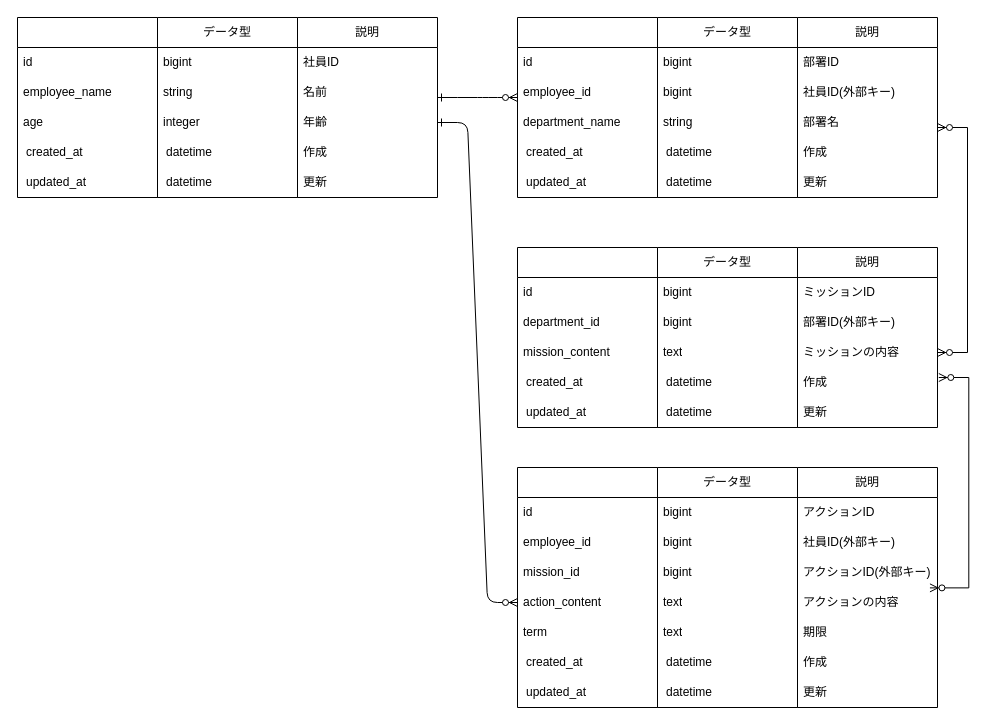
The diagram is 996 pixels wide and 725 high, and some of its shapes have lost their labels. Here are the shapes that lost their labels. From the top down, the box of each, then its label:
(16, 16, 158, 198): Employee（ 社員 ）
(516, 16, 658, 198): Department（ 部署 ）
(516, 246, 658, 428): Mission（ ミッション ）
(516, 466, 658, 708): Action（ アクション ）
